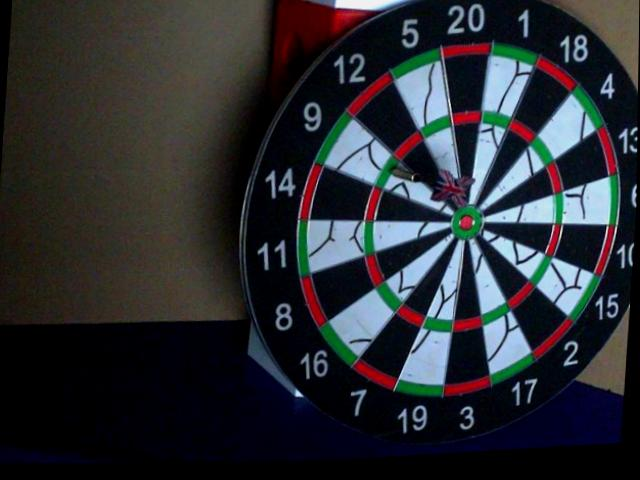triple_9: (376, 158, 398, 189)
